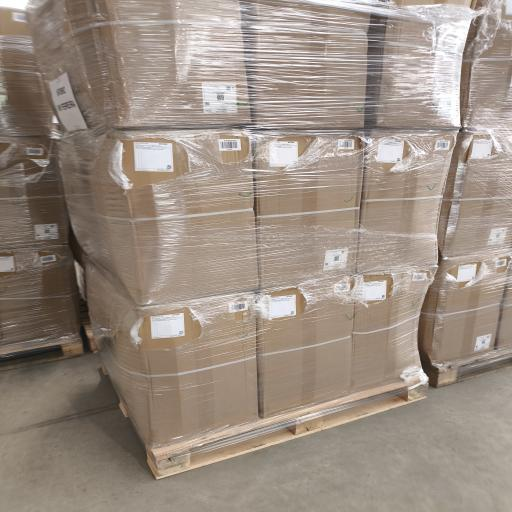pallet: (147, 383, 428, 479), (423, 352, 511, 387), (0, 336, 84, 370), (80, 300, 98, 352), (83, 324, 98, 352)
